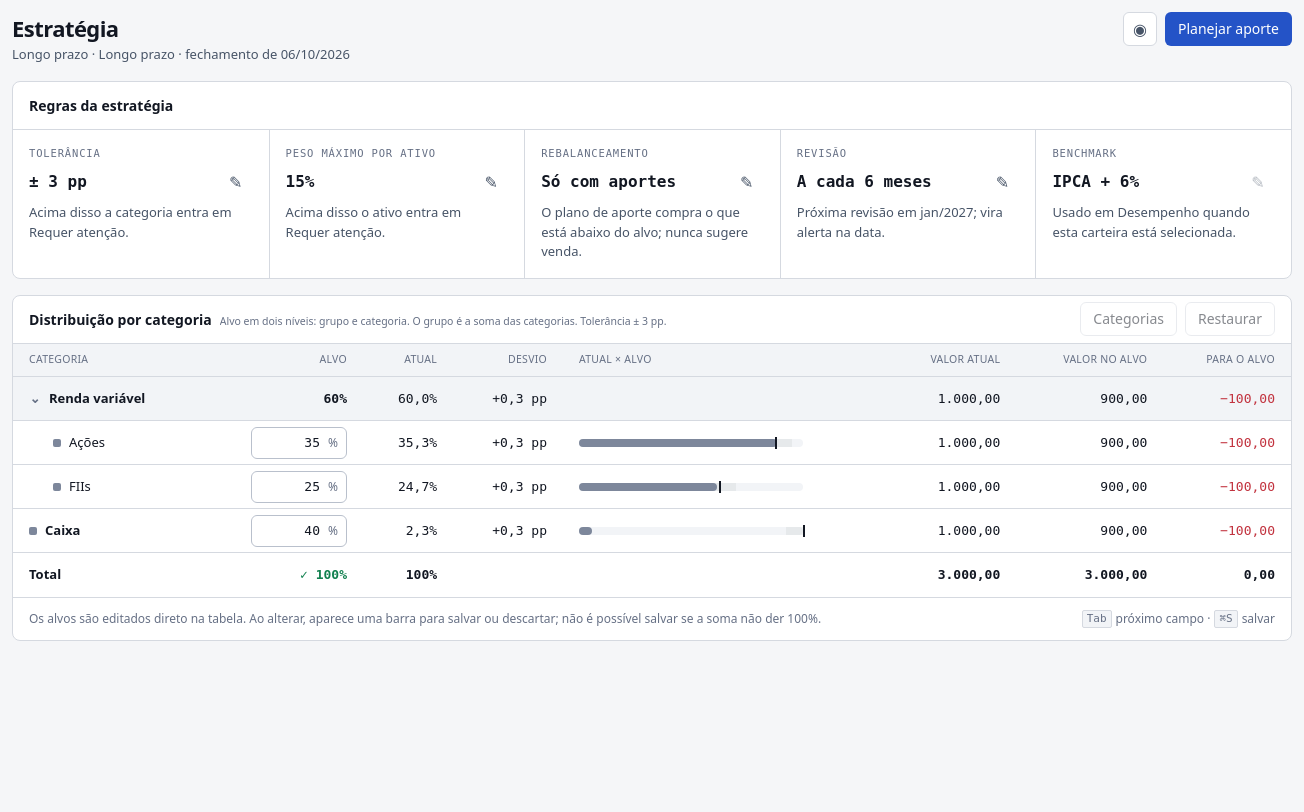
Scenario: editar e salvar › soma que não fecha trava o salvar e diz quanto falta
The image size is (1304, 812).
Replace the text in the field named "Alvo de Ações" with "30" at (290, 443), box [252, 433, 328, 452]
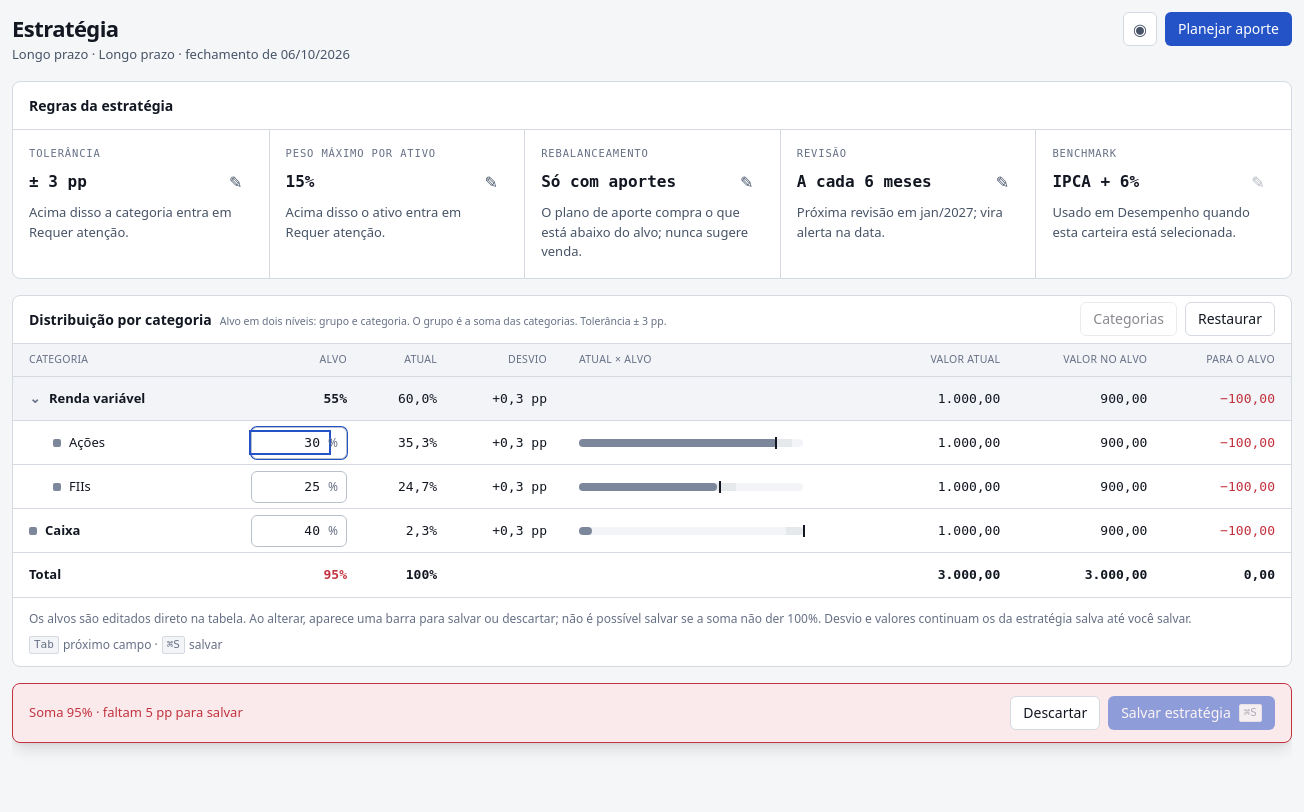
Now the button "Salvar estratégia ⌘S" is disabled, box [1108, 696, 1275, 730]
Now the text "Soma 95% · faltam 5 pp para salvar" is shown, box [29, 703, 243, 723]
